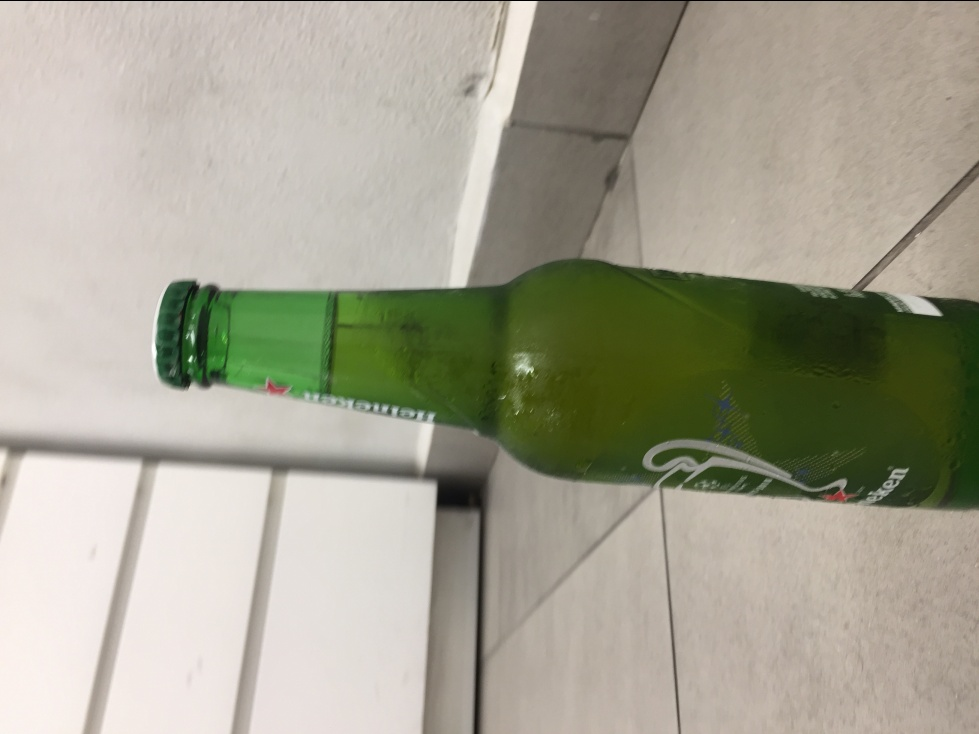heineken: (148, 254, 979, 514)
